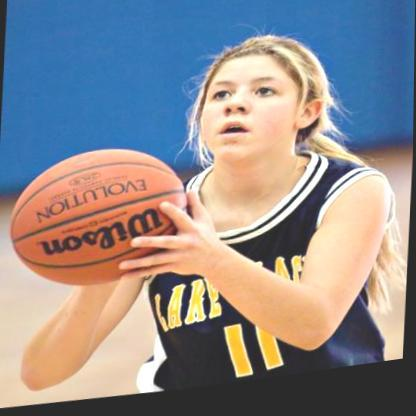basketball: (6, 139, 187, 297)
